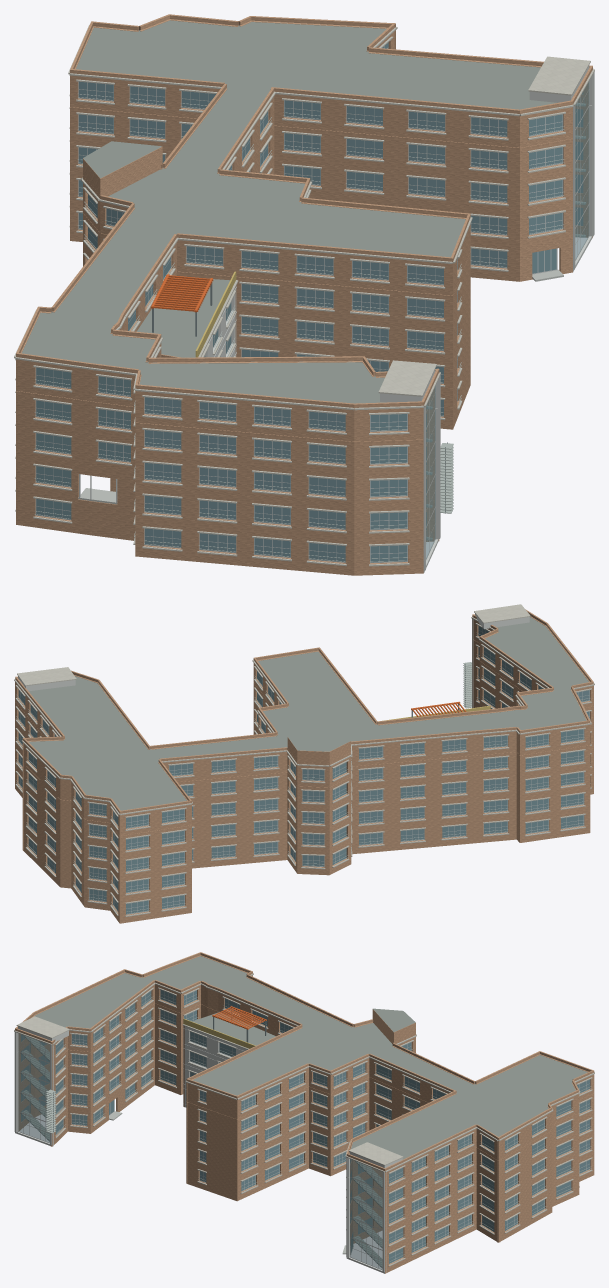
The picture shows the model from 3 angles, top to bottom: view 1: azimuth 30°, elevation 25°; view 2: azimuth 150°, elevation 25°; view 3: azimuth 270°, elevation 25°; orthographic projection. The views are drawn at different scales.
Parts seen in each view (by area): view 1: main__brick, main__roof, main__glass, main__stone, main__frame, main__rail, main__panel, main__stairglass, main__orange; view 2: main__brick, main__roof, main__glass, main__stone, main__frame, main__rail, main__panel; view 3: main__brick, main__roof, main__glass, main__stone, main__frame, main__stairglass, main__rail, main__panel, main__stair-flight, main__orange, main__yellow.
Part boxes in pixels (x1,y1,x2,y2): main__brick: [16, 14, 592, 575]; main__roof: [22, 20, 556, 403]; main__glass: [36, 42, 582, 562]; main__stone: [14, 23, 594, 566]; main__frame: [35, 46, 589, 563]; main__rail: [34, 94, 564, 562]; main__panel: [205, 65, 594, 572]; main__stairglass: [426, 82, 589, 558]; main__orange: [150, 274, 213, 312]; main__brick: [15, 609, 593, 923]; main__roof: [28, 617, 588, 810]; main__glass: [18, 626, 589, 914]; main__stone: [14, 604, 594, 916]; main__frame: [18, 626, 589, 914]; main__rail: [16, 632, 590, 914]; main__panel: [18, 613, 529, 707]; main__brick: [15, 952, 594, 1273]; main__roof: [34, 956, 587, 1159]; main__glass: [21, 990, 589, 1263]; main__stone: [14, 973, 594, 1266]; main__frame: [18, 990, 590, 1270]; main__stairglass: [18, 1034, 382, 1269]; main__rail: [46, 996, 591, 1263]; main__panel: [14, 1026, 402, 1273]; main__stair-flight: [20, 1035, 382, 1267]; main__orange: [212, 1006, 266, 1029]; main__yellow: [183, 1018, 255, 1048].
Size of the model in its own units: 83.85 by 20.69 by 94.5.
Materials: 14 (2 with a texture image).
